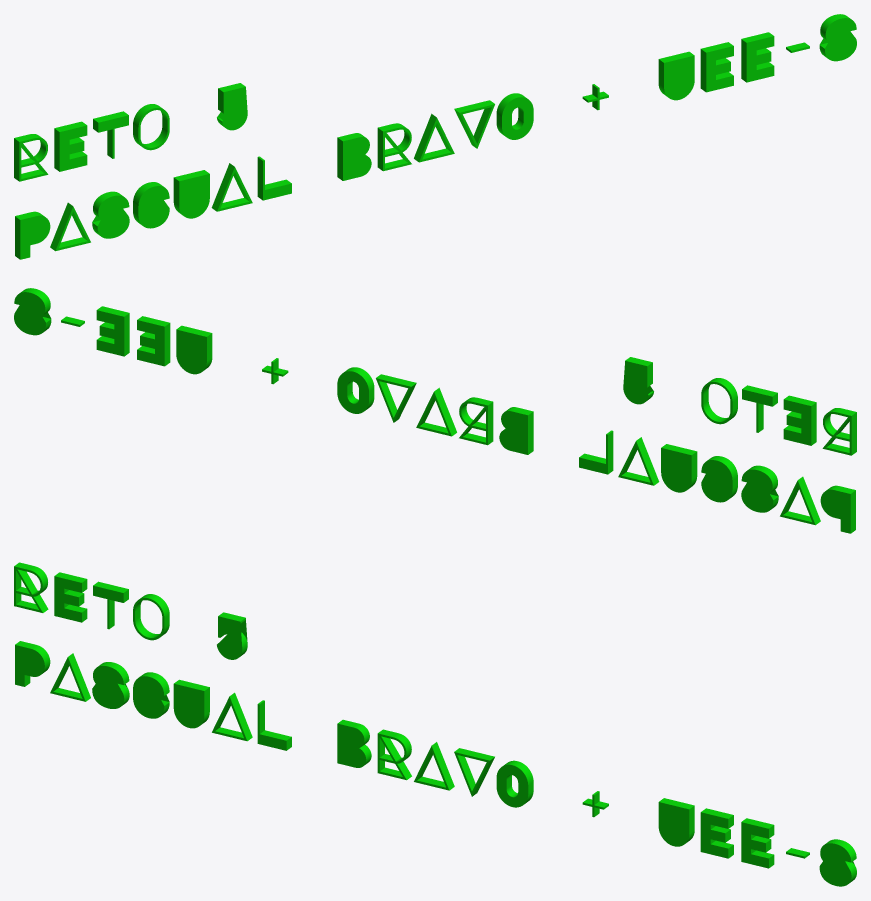
The model's file is RETO5.fbx.
The picture shows the model from 3 angles, top to bottom: view 1: azimuth 30°, elevation 25°; view 2: azimuth 150°, elevation 25°; view 3: azimuth 330°, elevation 25°; orthographic projection.
Parts seen in each view (by area): view 1: typeMesh5; view 2: typeMesh5; view 3: typeMesh5.
Part boxes in pixels (x1,y1,x2,y2): typeMesh5: (14, 14, 856, 259); typeMesh5: (14, 288, 856, 533); typeMesh5: (14, 562, 856, 886).
Bounding box in the file's own units: 224 × 30.66 × 2.5.
